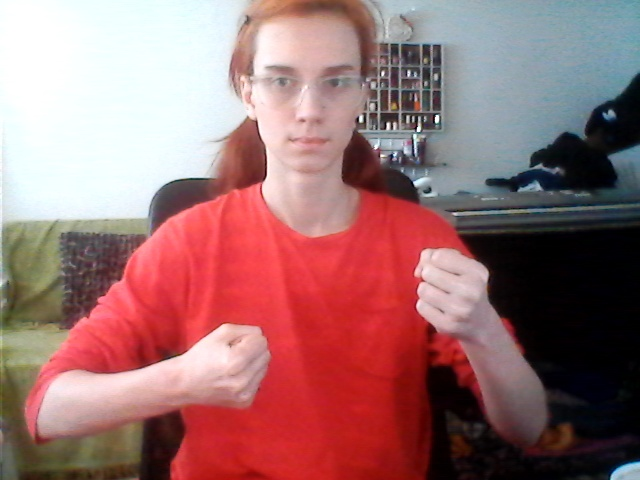auto: (188, 243, 497, 418)
